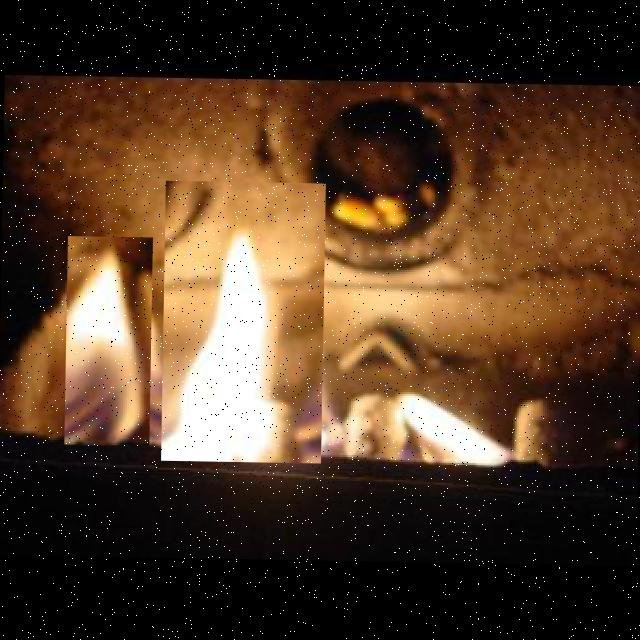fire: (160, 180, 326, 463), (64, 236, 152, 446)
